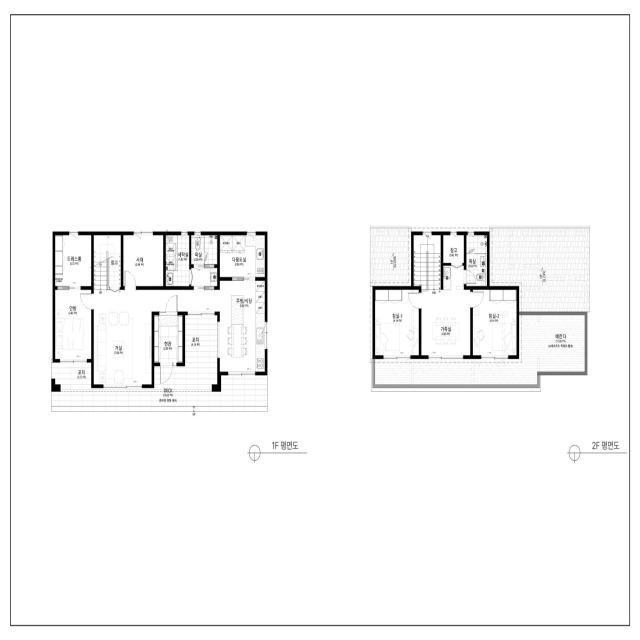space_bedroom: (473, 290, 517, 355), (375, 290, 419, 355), (55, 290, 91, 359)
space_dressroom: (55, 235, 91, 286)
space_front: (154, 315, 183, 363)
space_kitchen: (220, 281, 265, 372)
space_living_room: (94, 290, 220, 384), (421, 290, 470, 355)
space_multipurpose_space: (220, 235, 265, 277)
space_other: (123, 235, 163, 286), (94, 235, 121, 287), (166, 235, 189, 286), (443, 235, 464, 263)
space_staircase: (414, 235, 441, 290), (94, 259, 107, 290)
space_toilet: (466, 235, 487, 286), (191, 235, 217, 264), (443, 266, 464, 290), (191, 268, 217, 286)
